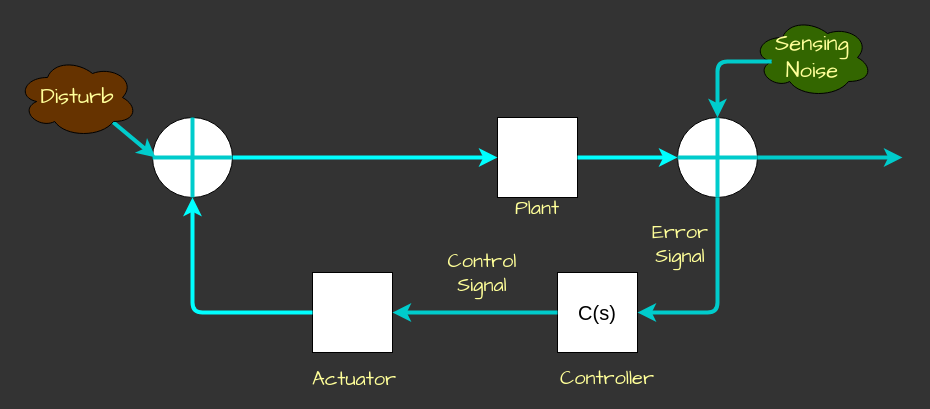
Image size: 930x409. Some labels were removed from this diagram. Each missing label, with the box of its shape:
A(s): (312, 272, 392, 352)
P(s): (496, 116, 578, 198)
